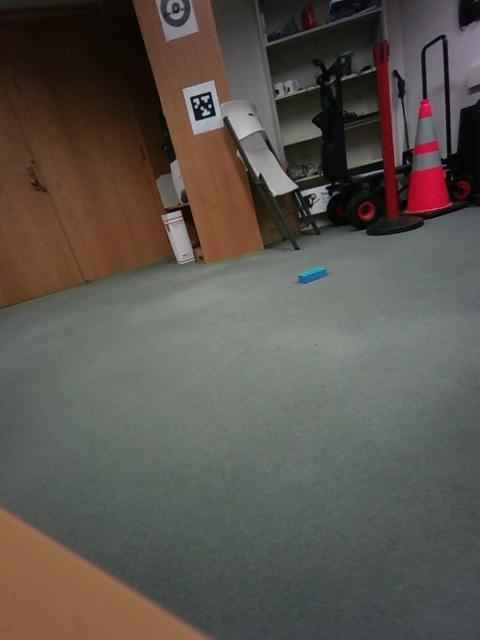block: (201, 304, 242, 367)
